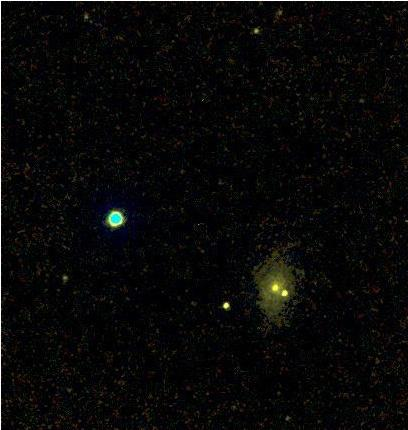star: (267, 282, 297, 312)
